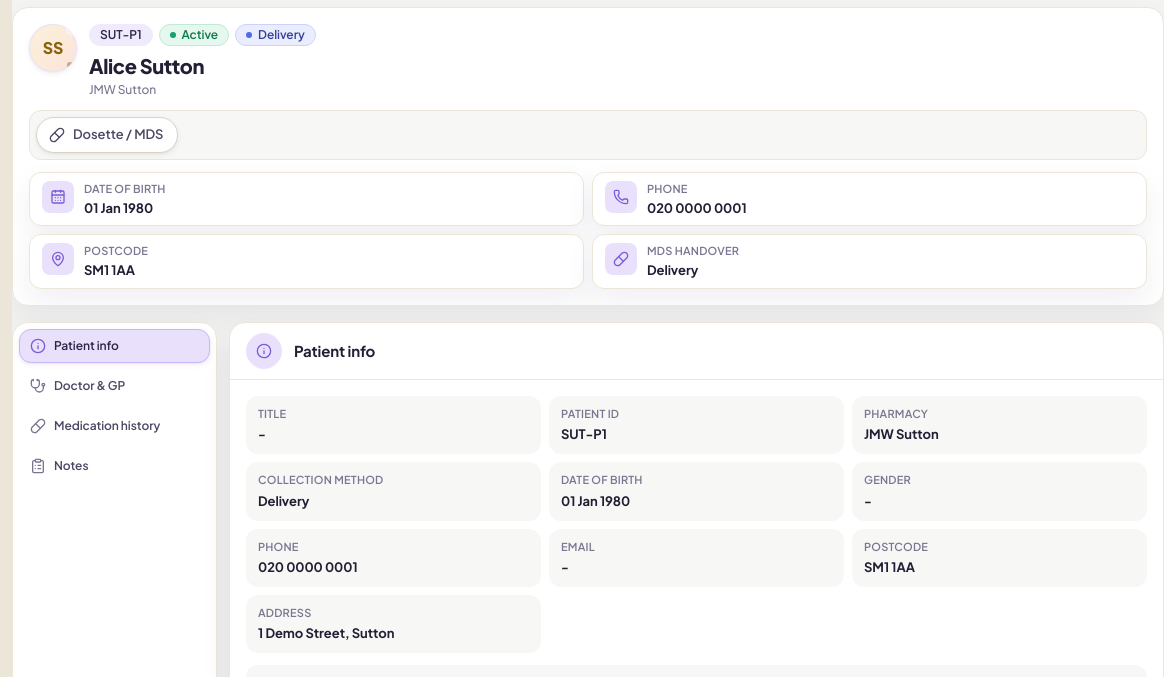
PatientDetailScreen › renders medication history empty state
Expected: the heading "Alice Sutton" is shown, [89, 53, 204, 78]
Step 1. Click the button "Medication history" → coordinates (114, 426), box [19, 409, 210, 443]
(page scrolled)
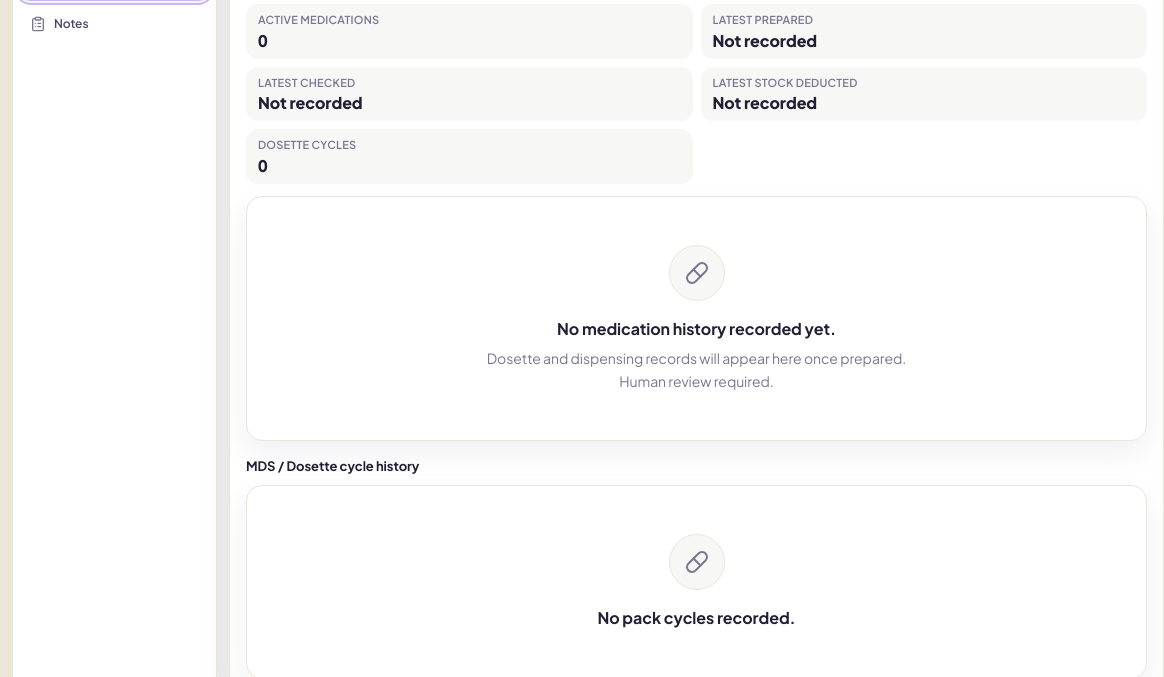
Expected: the heading "No medication history recorded yet." is shown, [557, 317, 836, 341]
